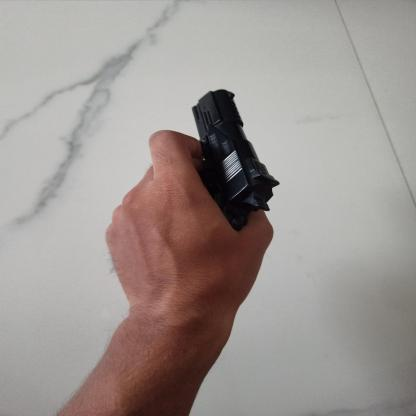handgun: (192, 89, 279, 231)
